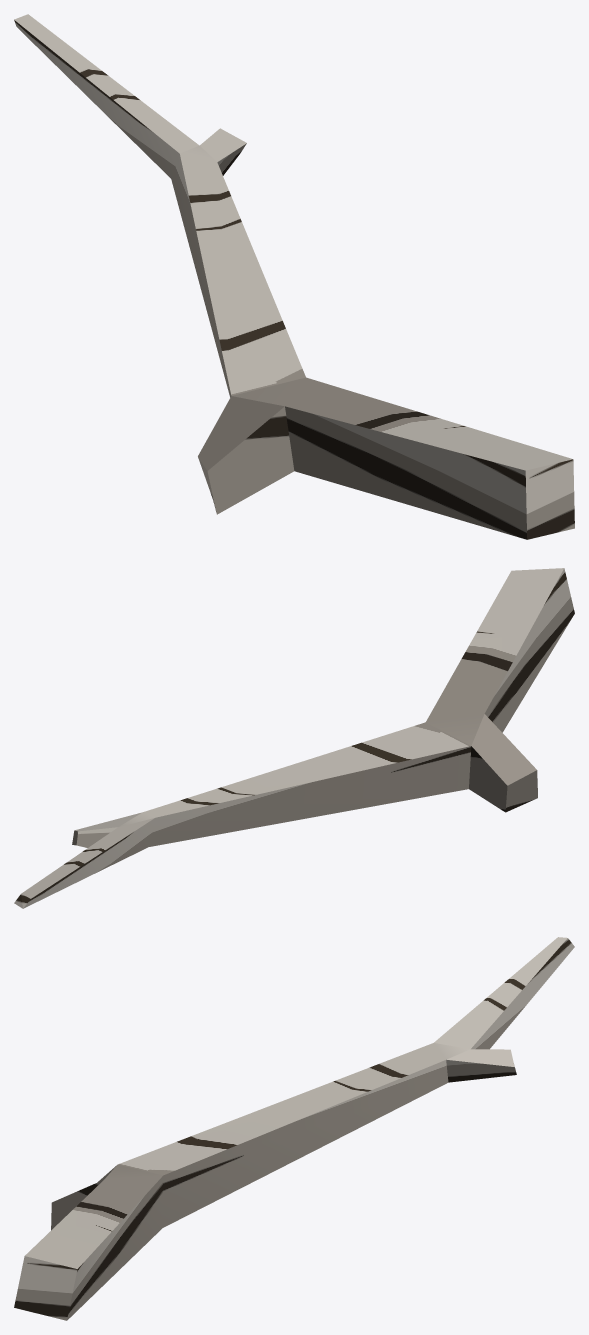
The model's file is synty-tree-twig-03.gltf.
The picture shows the model from 3 angles, top to bottom: view 1: azimuth 30°, elevation 25°; view 2: azimuth 150°, elevation 25°; view 3: azimuth 330°, elevation 25°; orthographic projection. The views are drawn at different scales.
Visible parts, largest first — view 1: SM_Tree_Twig_03; view 2: SM_Tree_Twig_03; view 3: SM_Tree_Twig_03.
Boxes of the visible parts, x1,y1,x2,y2 form: SM_Tree_Twig_03: (14, 14, 574, 539); SM_Tree_Twig_03: (14, 568, 574, 908); SM_Tree_Twig_03: (14, 937, 574, 1320).
Size of the model in its own units: 0.1627 by 0.07 by 0.5424.
Materials: 1 (1 with a texture image).
